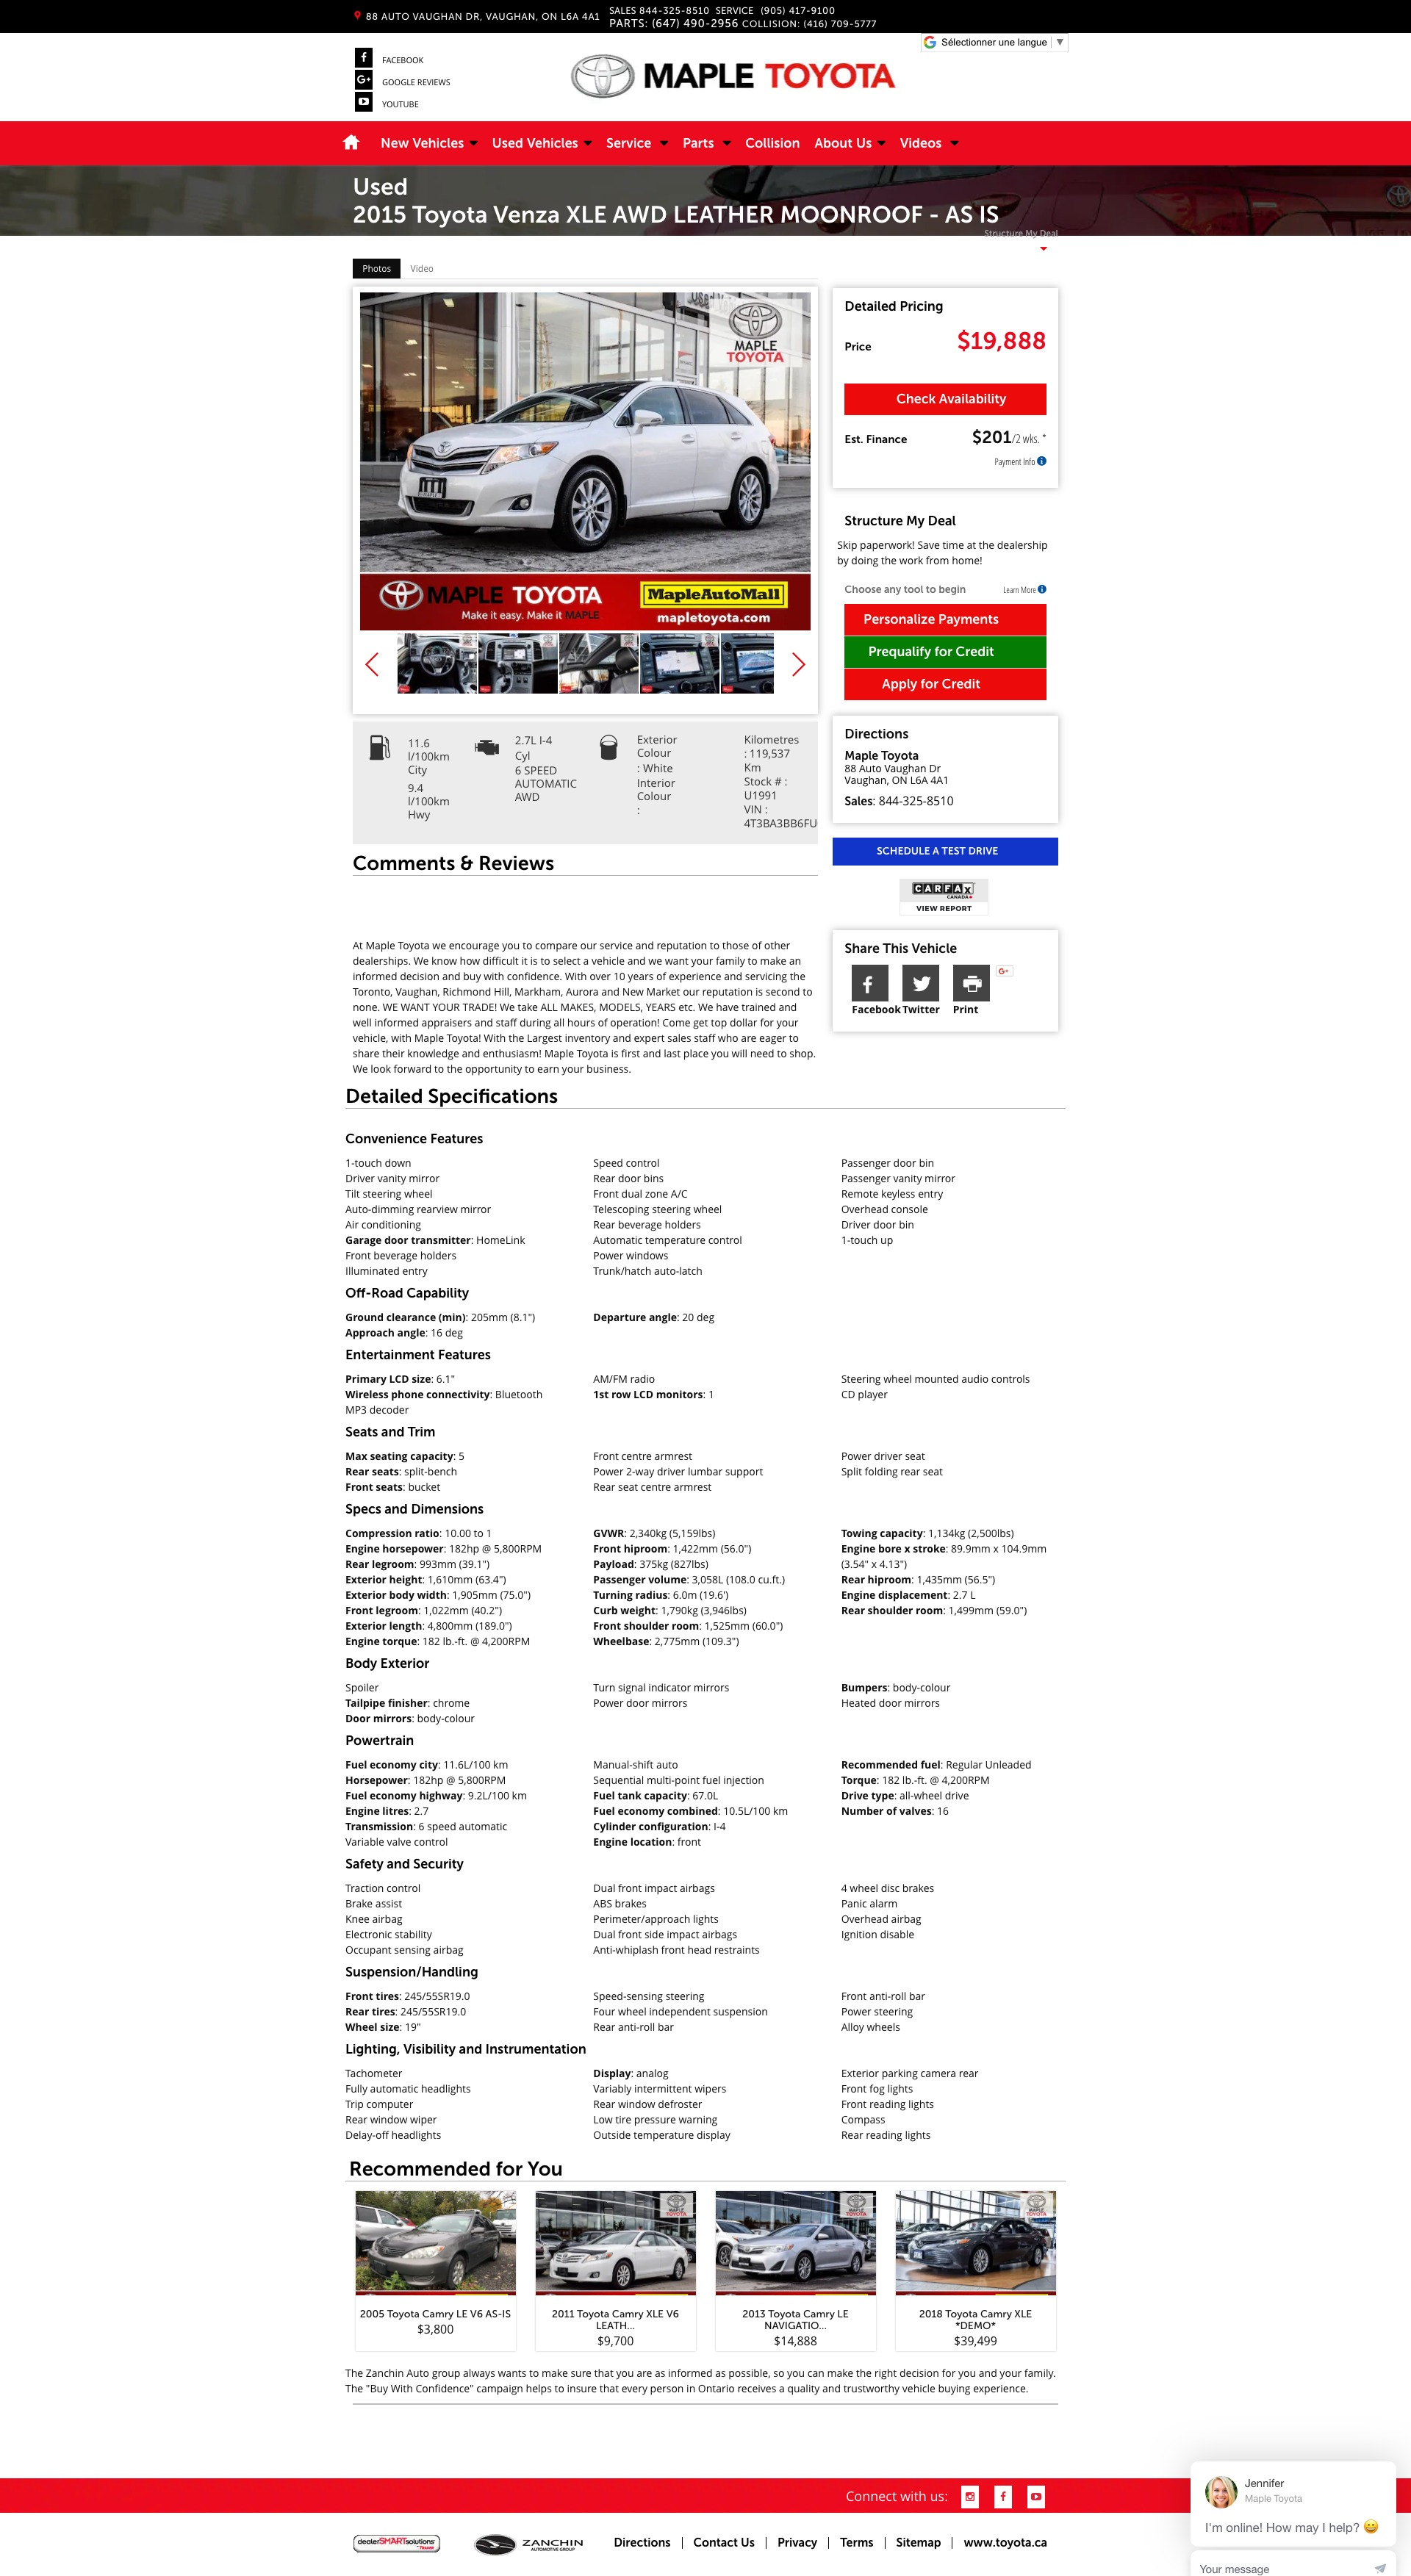car: (792, 651, 806, 679)
